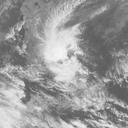cyclone: (34, 36, 84, 90)
